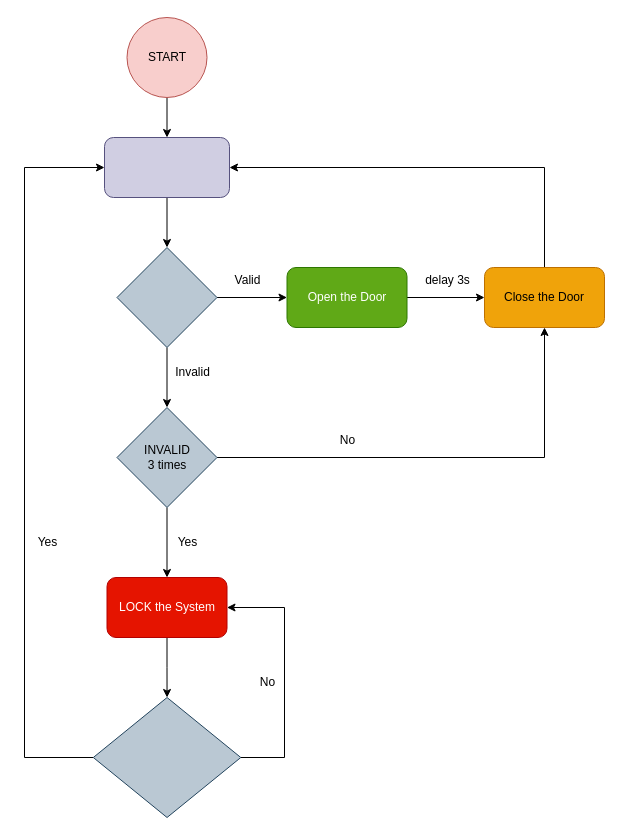
Image size: 622x835. Some labels were removed from this diagram. The centre of each missing label's shape, as x and y in pixels:
Check CARD: the point at 166,297
SCAN CARD: the point at 167,167
Unlock (from Thingsboard): the point at 166,757
